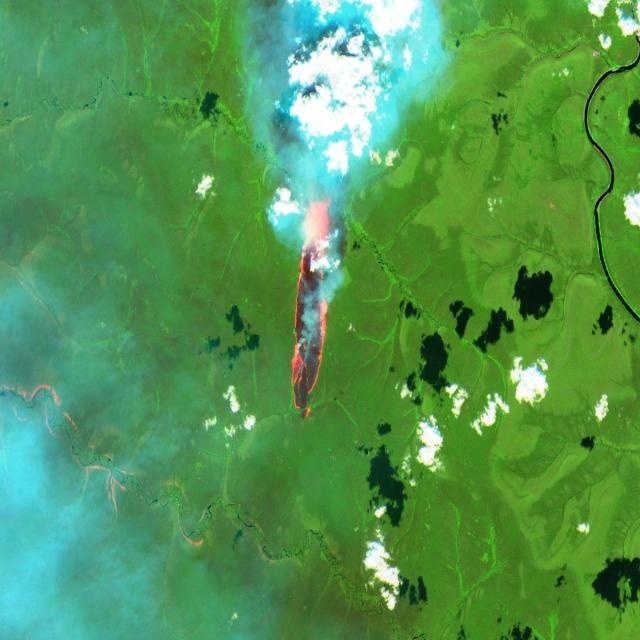fire: (286, 192, 342, 422)
